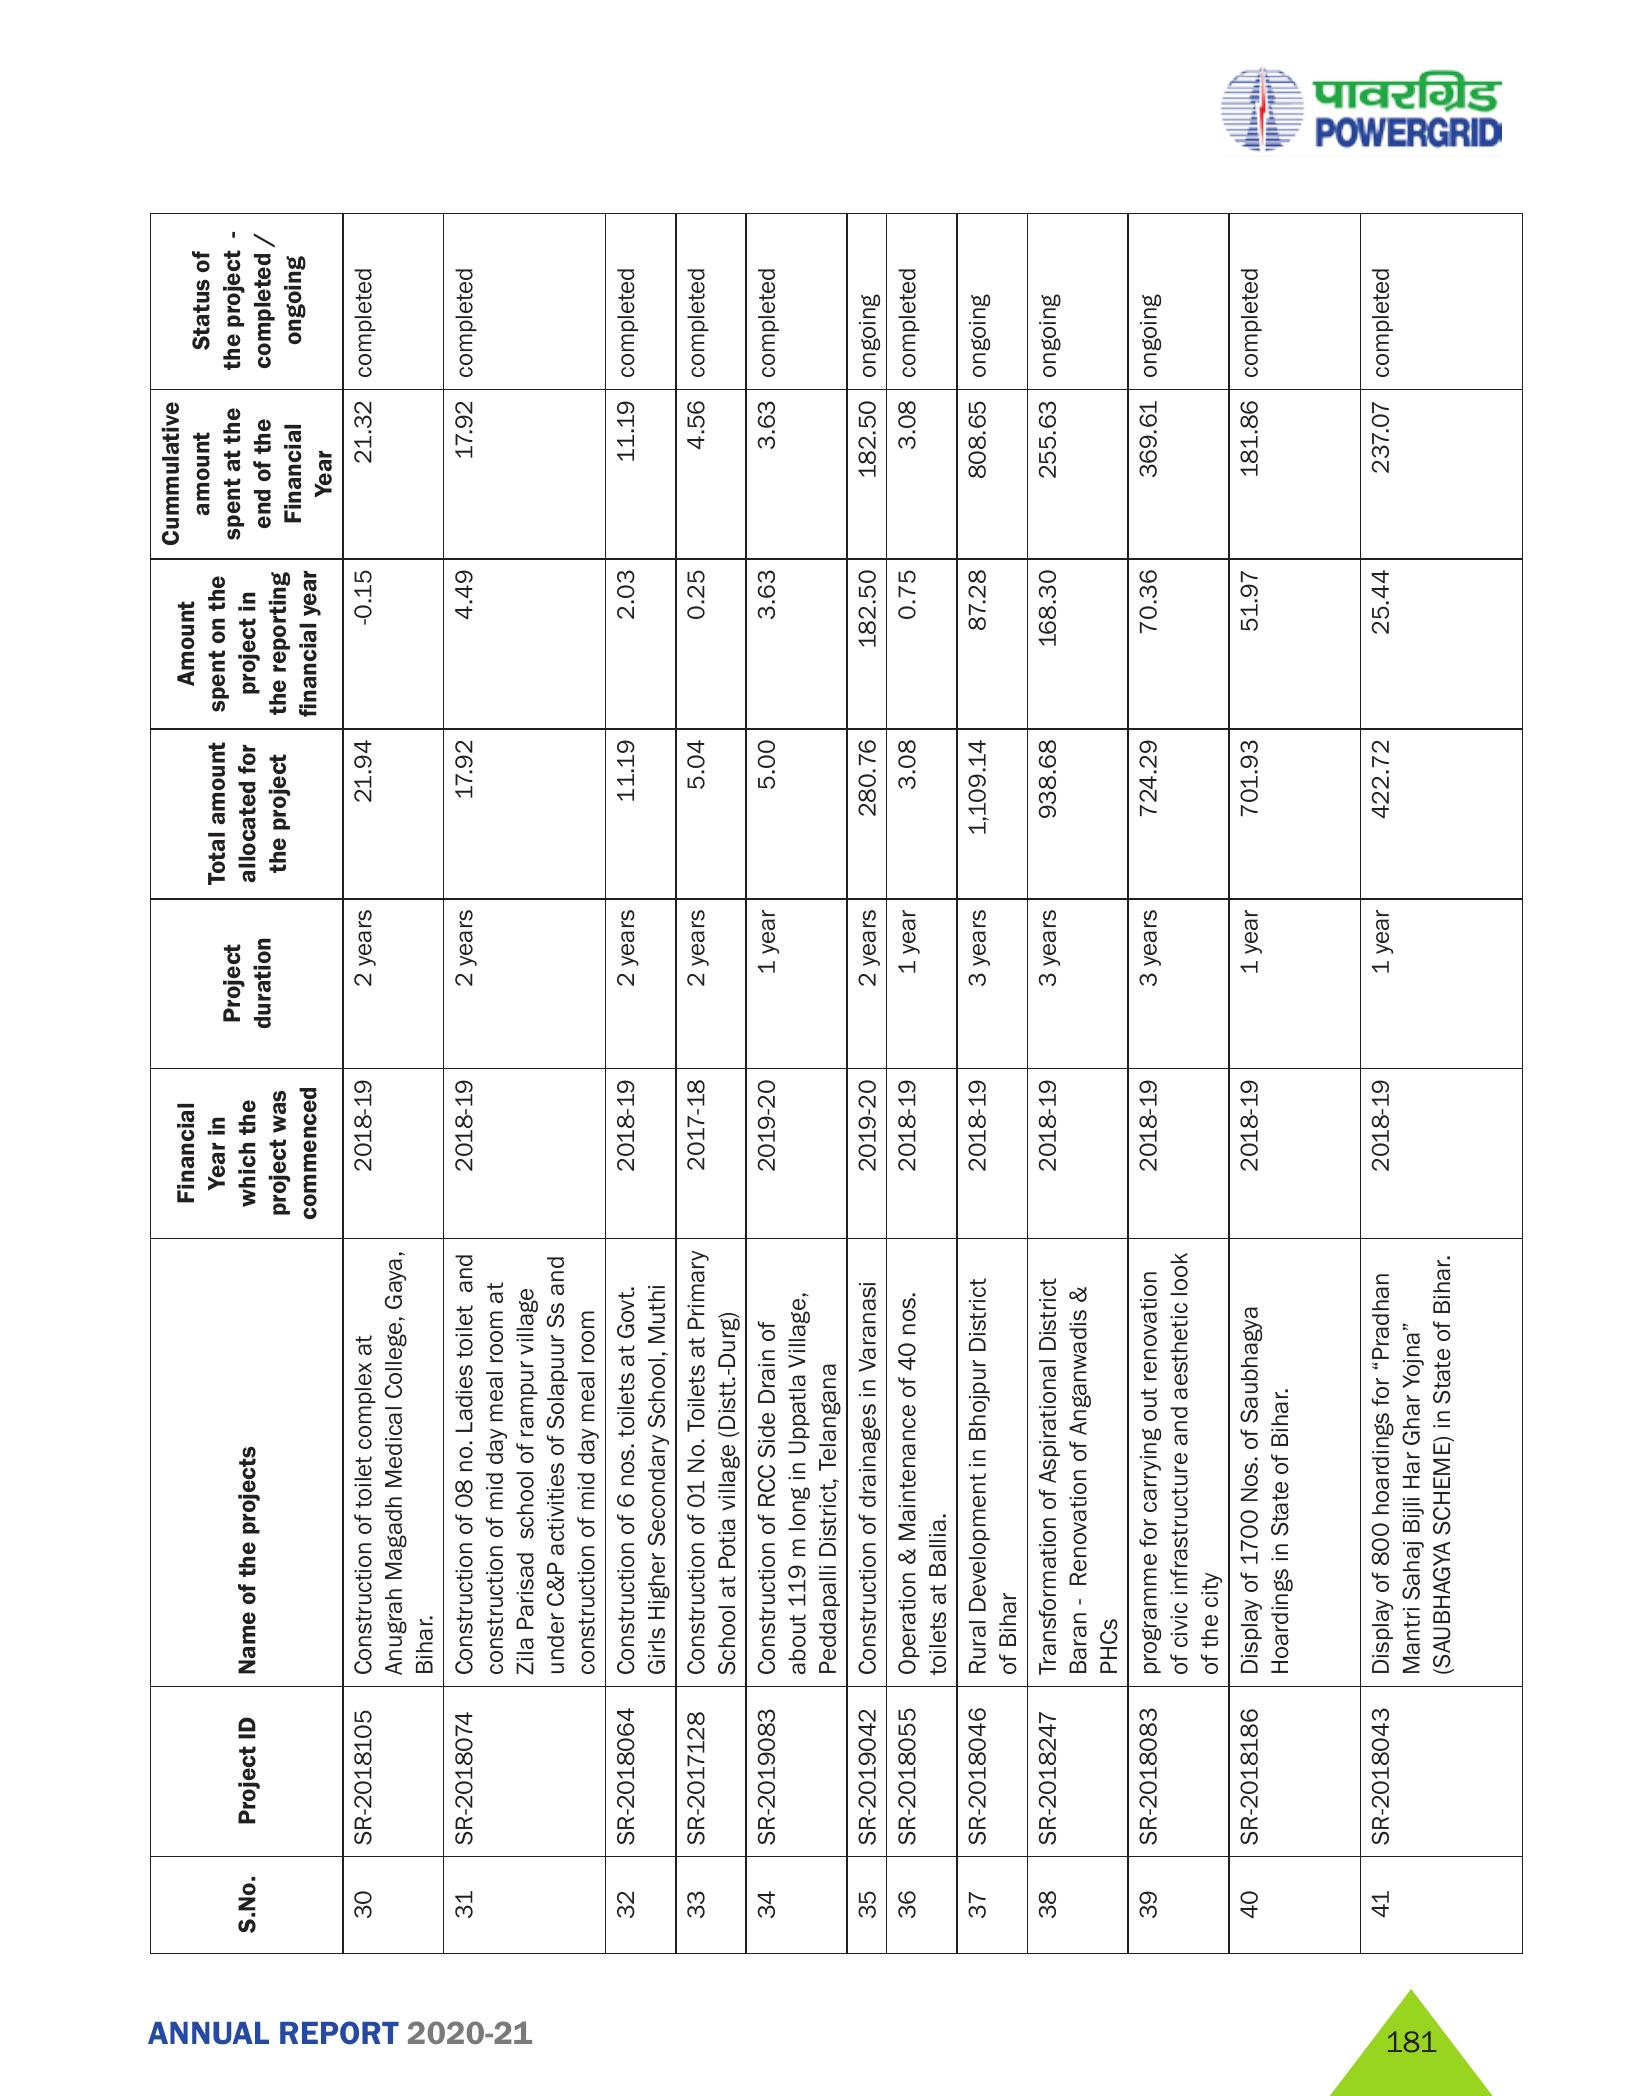Footer: (0, 1965, 1650, 2096)
Header: (0, 0, 1650, 189)
Table: (114, 213, 1551, 1950)
